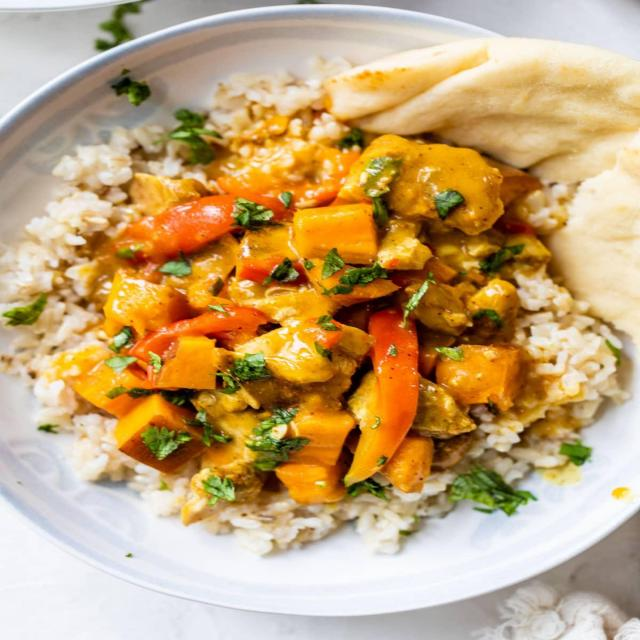chicken: (125, 148, 523, 492)
roti: (426, 24, 640, 299)
